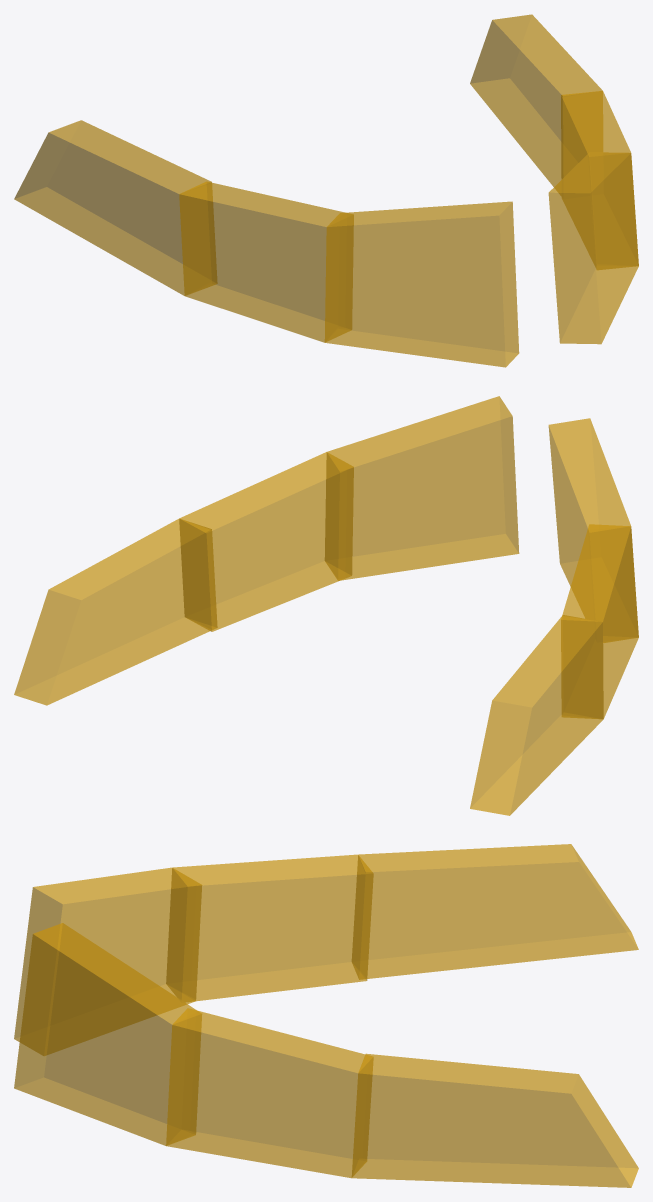
File: SM_Veh_Ship_S_Front_03_Collision.fbx
The picture shows the model from 3 angles, top to bottom: view 1: azimuth 30°, elevation 25°; view 2: azimuth 150°, elevation 25°; view 3: azimuth 270°, elevation 25°; orthographic projection. The views are drawn at different scales.
Visible parts, largest first — view 1: SM_Veh_Ship_S_Front_03_Collision; view 2: SM_Veh_Ship_S_Front_03_Collision; view 3: SM_Veh_Ship_S_Front_03_Collision.
Part boxes in pixels (x1=…): SM_Veh_Ship_S_Front_03_Collision: x1=14, y1=14, x2=638, y2=367; SM_Veh_Ship_S_Front_03_Collision: x1=14, y1=396, x2=638, y2=815; SM_Veh_Ship_S_Front_03_Collision: x1=14, y1=844, x2=638, y2=1187.
Size of the model in its own units: 528 by 155 by 544.
